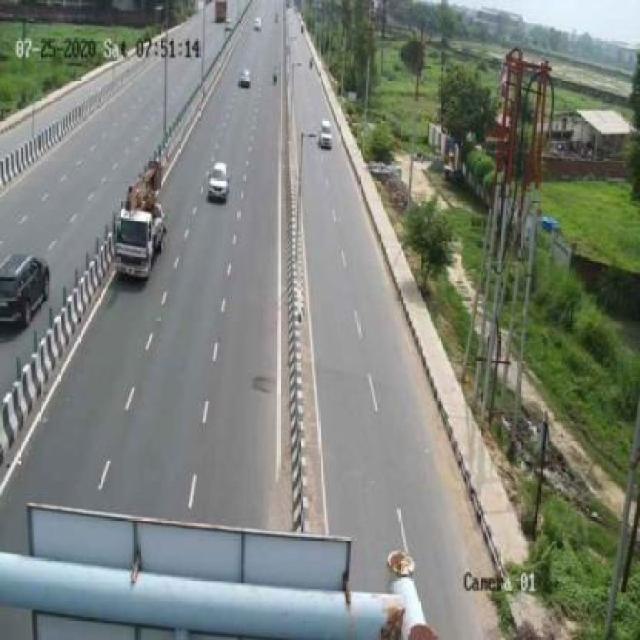car: (2, 249, 52, 329), (205, 163, 229, 206), (314, 116, 334, 150), (232, 64, 258, 90)
